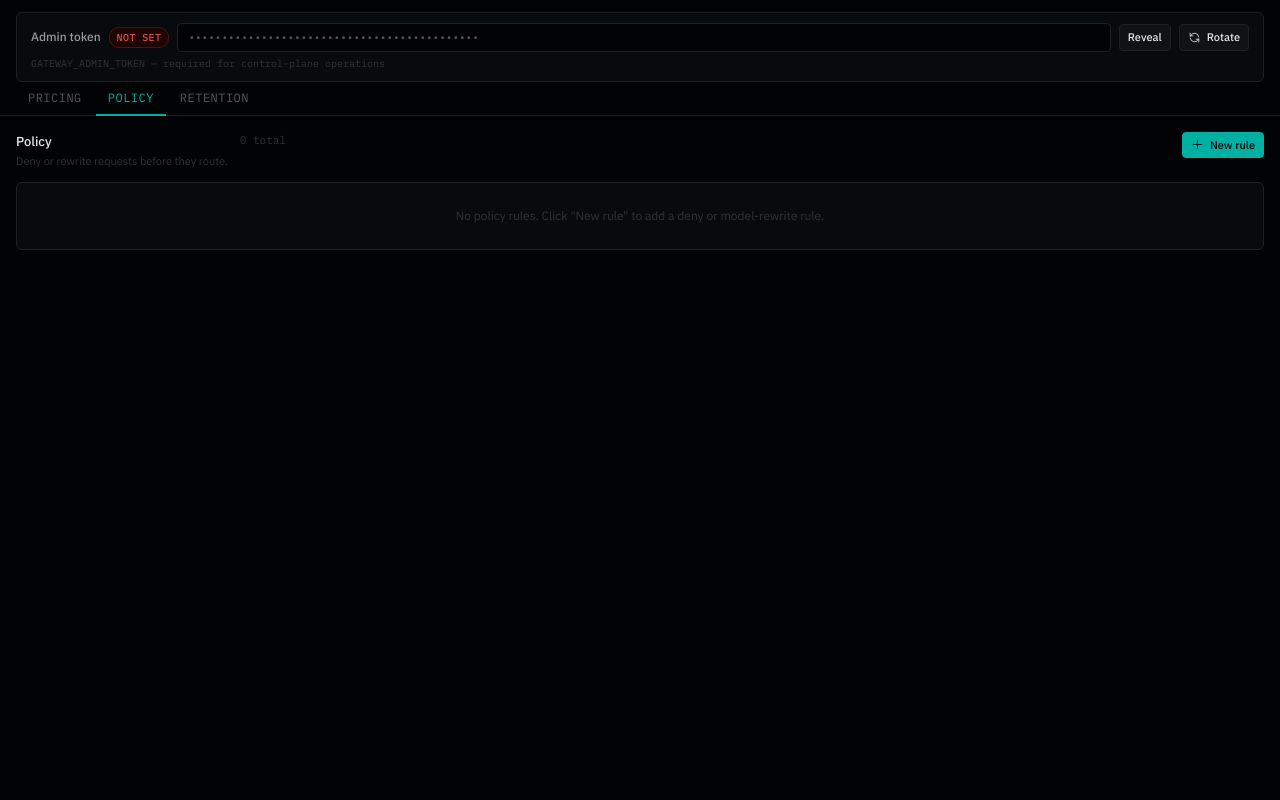
Test: AdminView policy tab › 'New rule' opens the SlideOver with the empty form
The image size is (1280, 800).
Click the button "Policy" at (131, 98), box [96, 82, 166, 116]
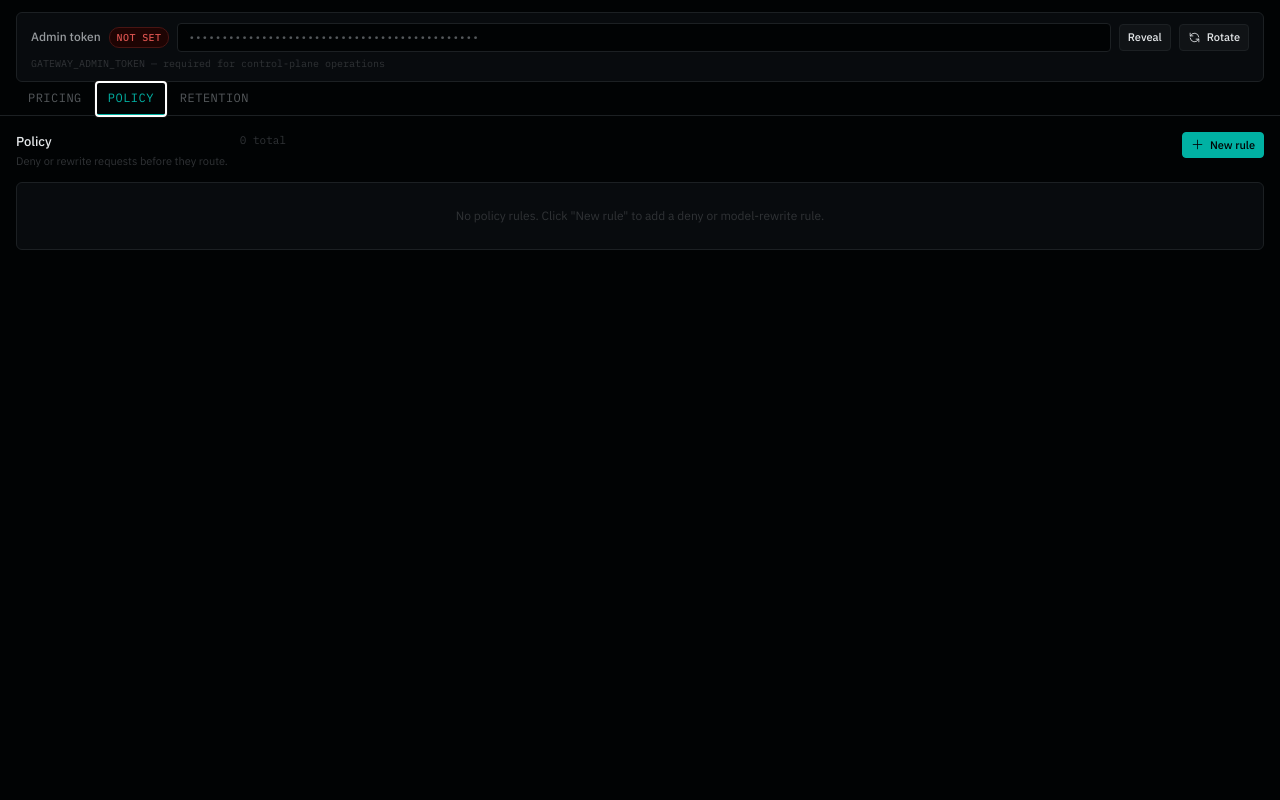
Click the button "New rule" at (1223, 145), box [1182, 132, 1264, 158]
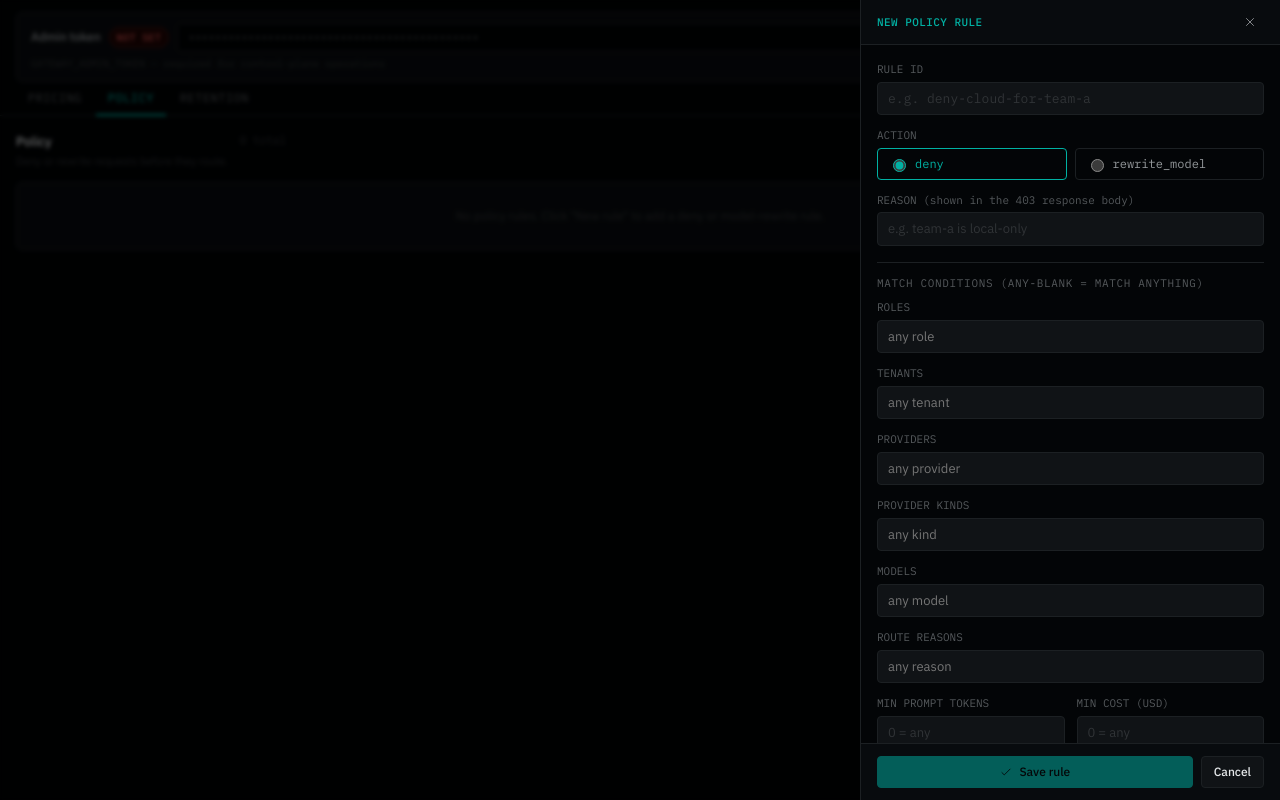
Check: the dialog "New policy rule" is shown, box [860, 0, 1279, 799]
Check: the text "REASON (shown in the 403 response body)" is shown, box [877, 192, 1134, 206]
